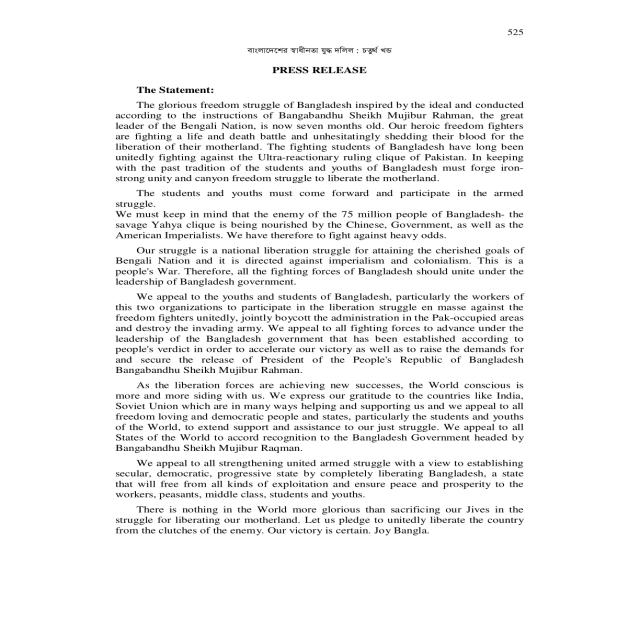page number: (501, 25, 530, 40)
paragraph: (110, 98, 527, 185), (110, 290, 527, 377), (111, 380, 525, 455), (109, 456, 526, 501), (111, 244, 525, 288), (113, 503, 523, 540), (115, 209, 520, 242), (115, 187, 521, 208)
text: (239, 44, 397, 59), (132, 84, 218, 96)
title: (262, 63, 375, 78)
